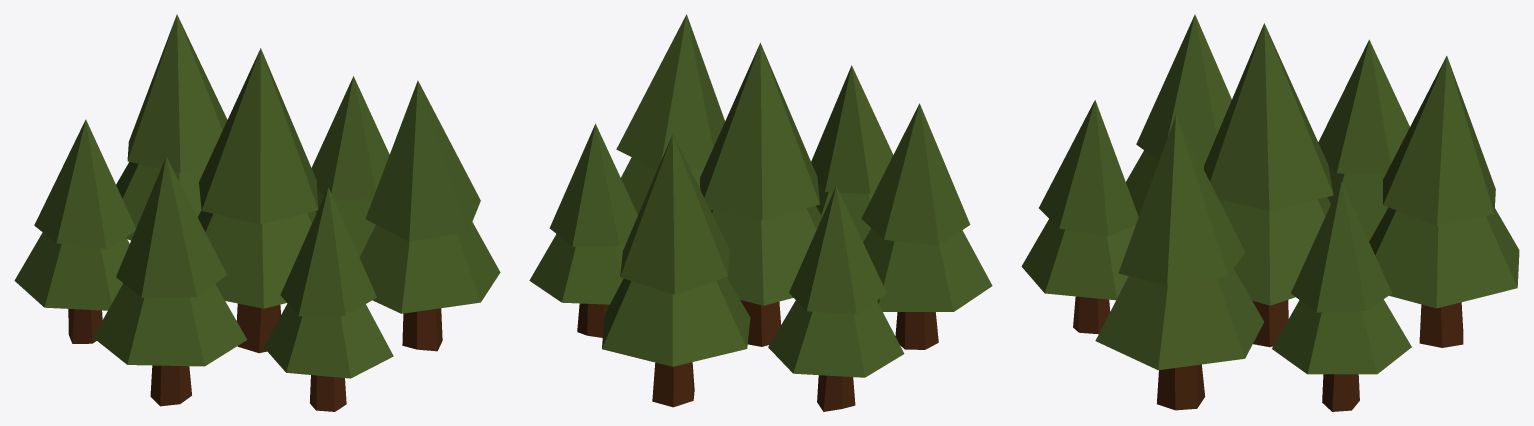
Rendered from Decors_foret.fbx.
The picture shows the model from 3 angles, left to right: view 1: azimuth 30°, elevation 25°; view 2: azimuth 150°, elevation 25°; view 3: azimuth 270°, elevation 25°; orthographic projection. The views are drawn at different scales.
Parts seen in each view (by area): view 1: Cylinder.003; view 2: Cylinder.003; view 3: Cylinder.003.
Boxes of the visible parts, box(x1,y1,x2,y2) form: Cylinder.003: box(14, 14, 500, 411); Cylinder.003: box(529, 14, 992, 411); Cylinder.003: box(1021, 14, 1519, 411).
Size of the model in its own units: 132 by 100 by 144.
